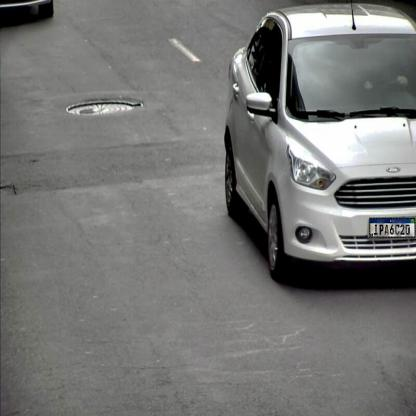PlacaM: (369, 218, 416, 238)
